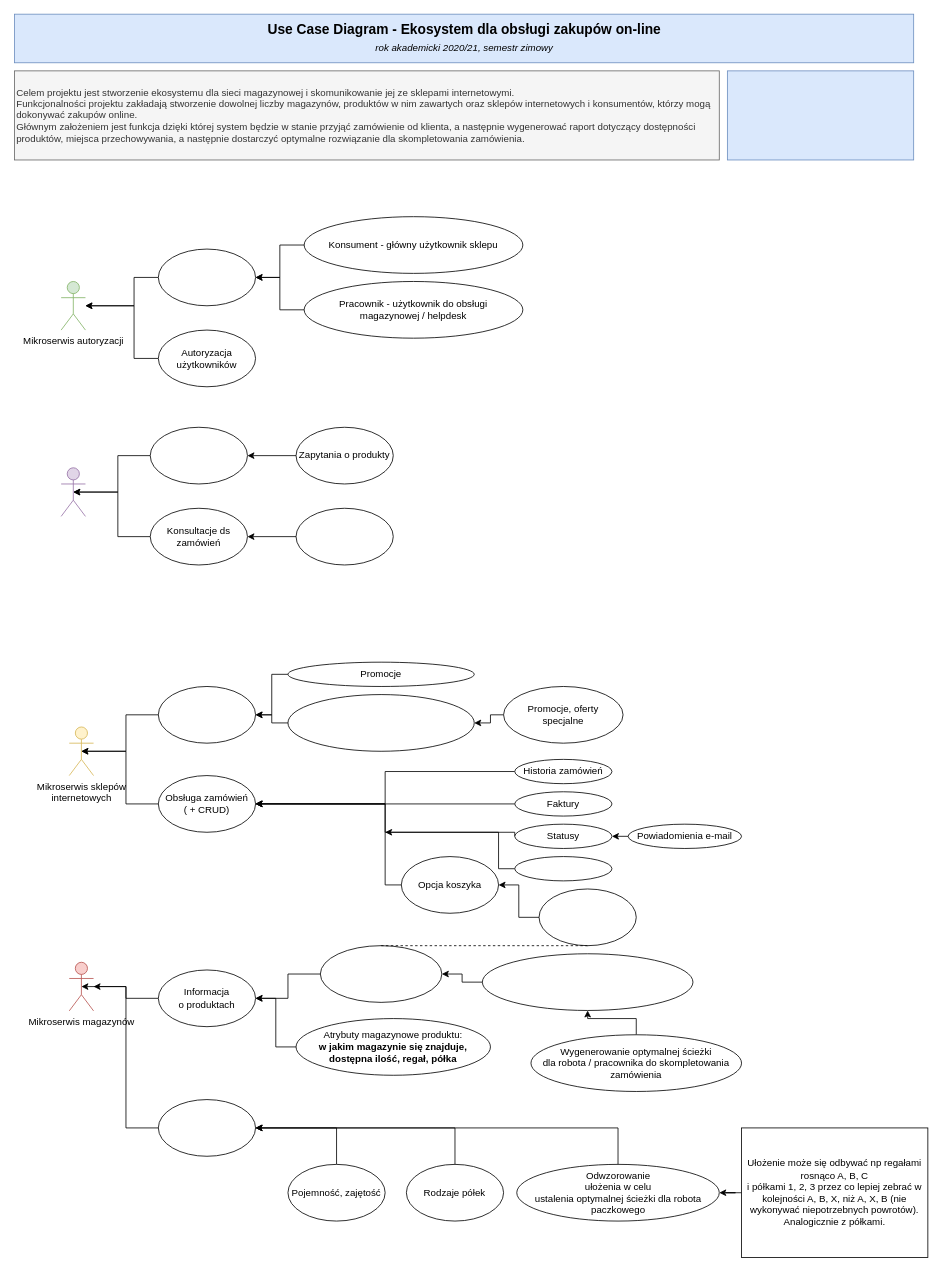
The diagram is 942 pixels wide and 1272 high, and some of its shapes have lost their labels. Each missing label, with the box of its shape:
Atrybuty opisowe produktu: nazwa, cena, kolor, opis itp .: (287, 694, 474, 751)
Dodawanie do koszyka dostępnych na magazynie produktów: (538, 888, 636, 946)
Ewidencja produktów ( + CRUD): (158, 686, 256, 743)
Informacja o dostępności (czy na stanie + położenie): (320, 945, 442, 1002)
Informacja o magazynie: (158, 1099, 256, 1156)
Karol Lech Przemysław Pleśniarski Krzysztof Podkulski Marcin Wielgos LAB 3: (727, 70, 914, 160)
Konsultacje ds produktów: (149, 426, 247, 484)
Mikroserwis helpdesku: (60, 467, 85, 516)
Optymalne dopasowanie logistyczne do kompletowania: (482, 953, 693, 1010)
Priorytety: (514, 856, 612, 881)
Przechowywanie informacji o użytkownikach: (158, 248, 256, 306)
Zapytania o zamówienia: (295, 507, 393, 565)
